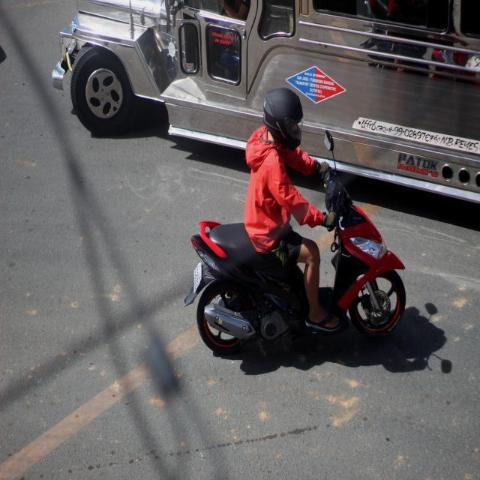jeepney: (50, 0, 480, 210)
motorcycle: (184, 85, 408, 357)
